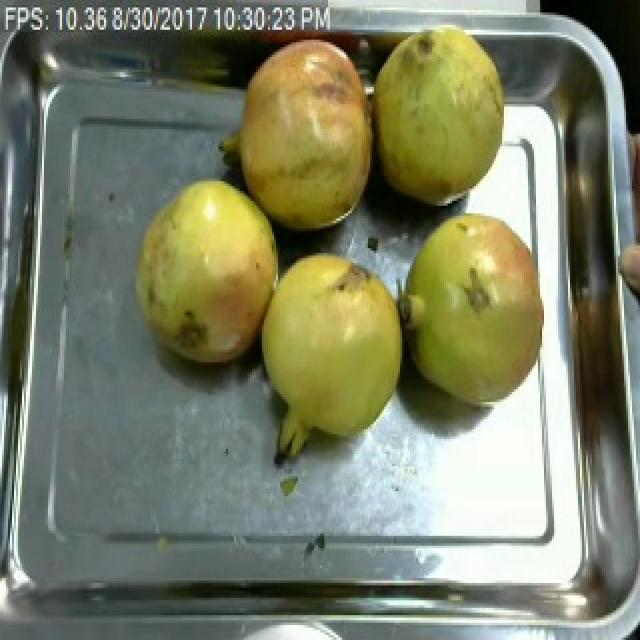fruit: (214, 27, 386, 243), (254, 238, 412, 466), (394, 196, 550, 419), (124, 166, 288, 377), (362, 15, 524, 223), (614, 216, 640, 320)
